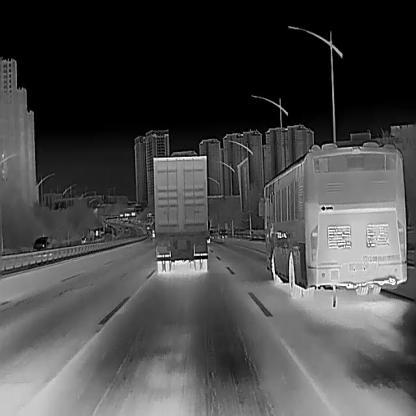car: (258, 140, 406, 297), (153, 155, 207, 273), (32, 234, 53, 249), (218, 227, 227, 237)
